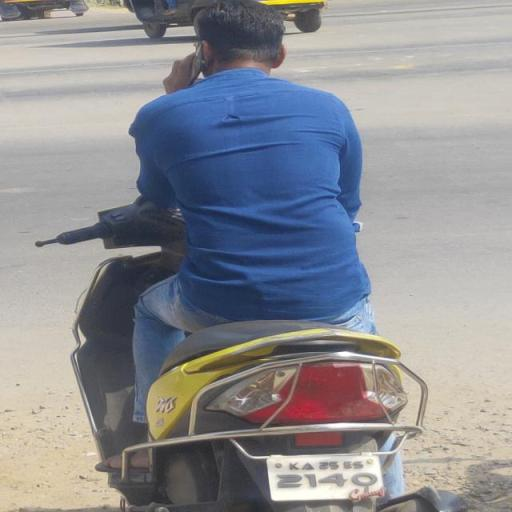bike: (26, 0, 467, 512)
numberplate: (266, 455, 382, 502)
using mobile: (169, 42, 216, 88)
withouthelmet: (196, 0, 284, 70)
